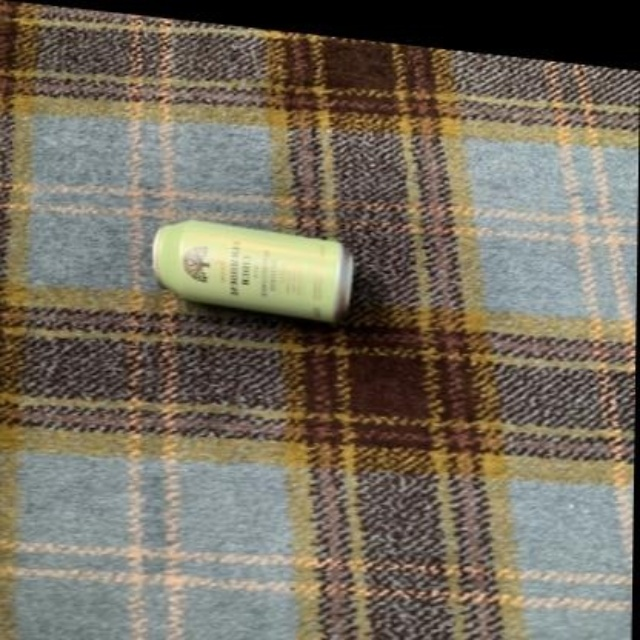trash: (152, 220, 352, 322)
